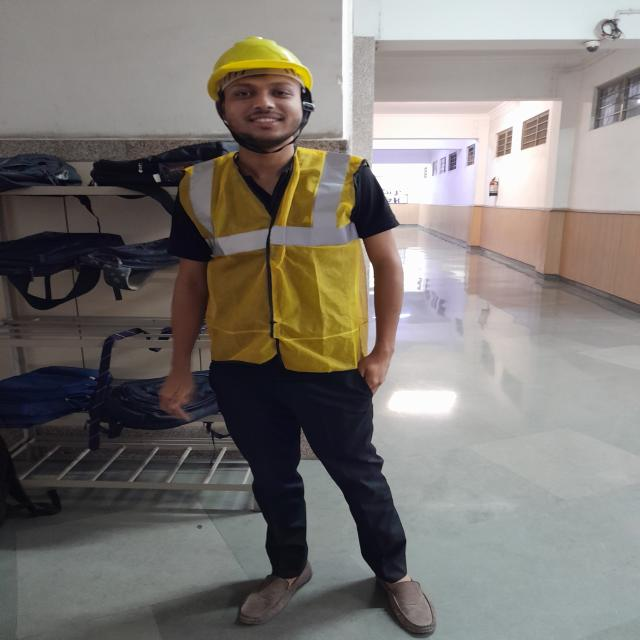safe: (155, 33, 404, 624)
